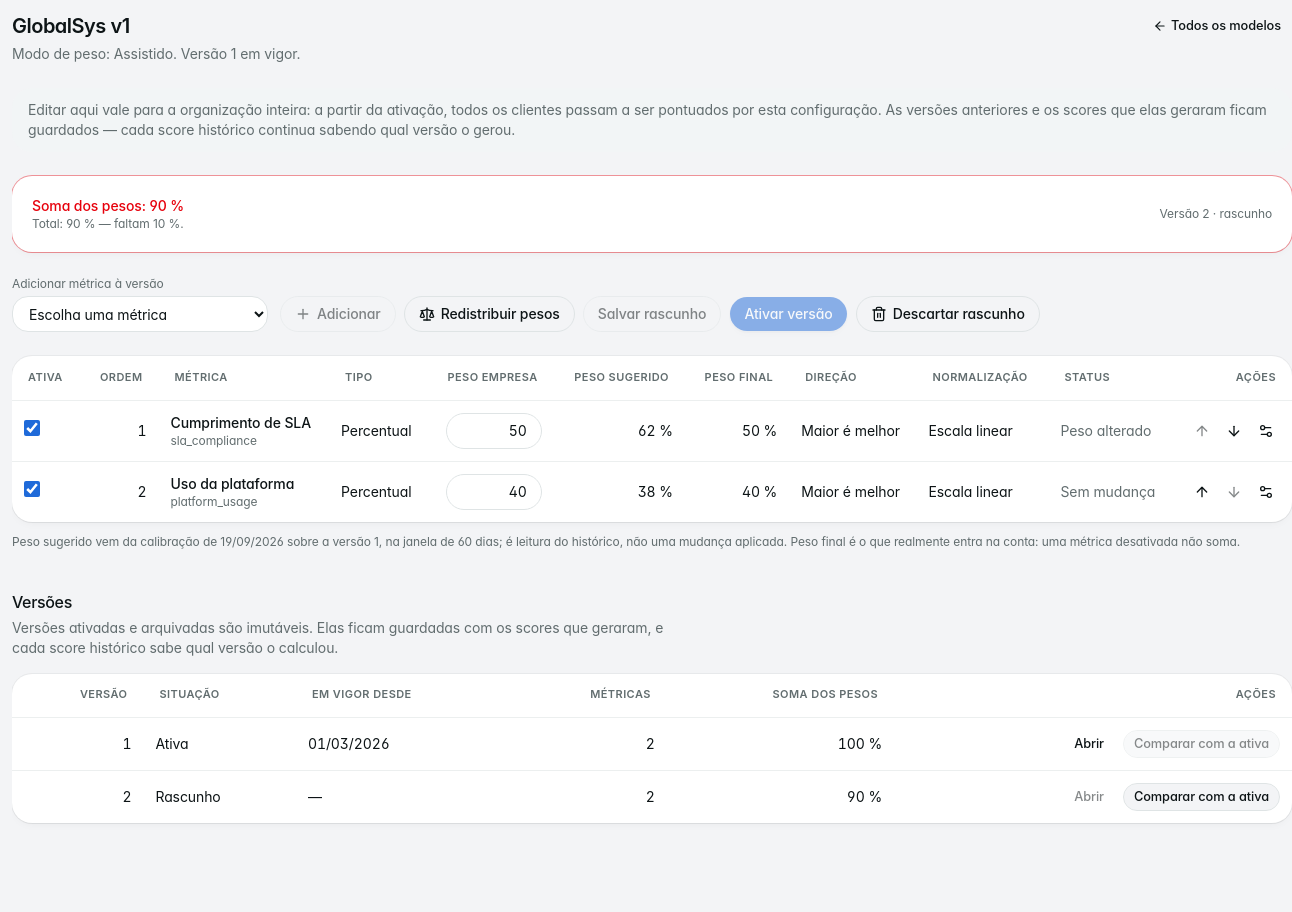
Test case: MetricModelDetailPage (/metric-models/:id) — pesos › mostra a soma o tempo todo e só libera "Ativar versão" com 100 % salvos
This screenshot has width=1292, height=912.
Expected: the text "Soma dos pesos: 90 %" is shown, [32,196,184,216]
Expected: the text "Total: 90 % — faltam 10 %." is shown, [32,216,184,232]
Clear the field named "Peso de Uso da plataforma em porcentagem" at (494,492), box [446,474,542,510]
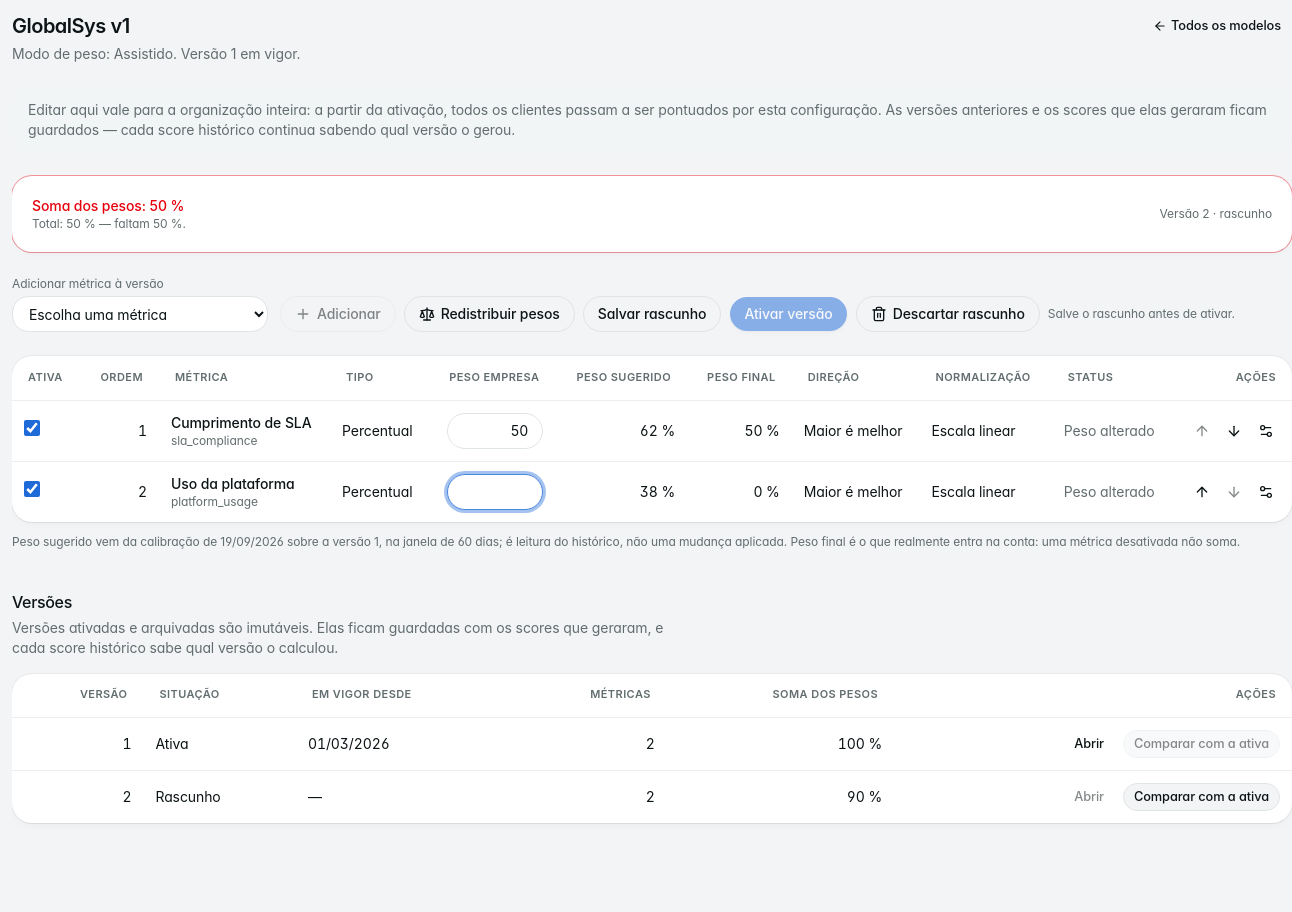
Type "50" into the field named "Peso de Uso da plataforma em porcentagem" at (495,492), box [447,474,543,510]
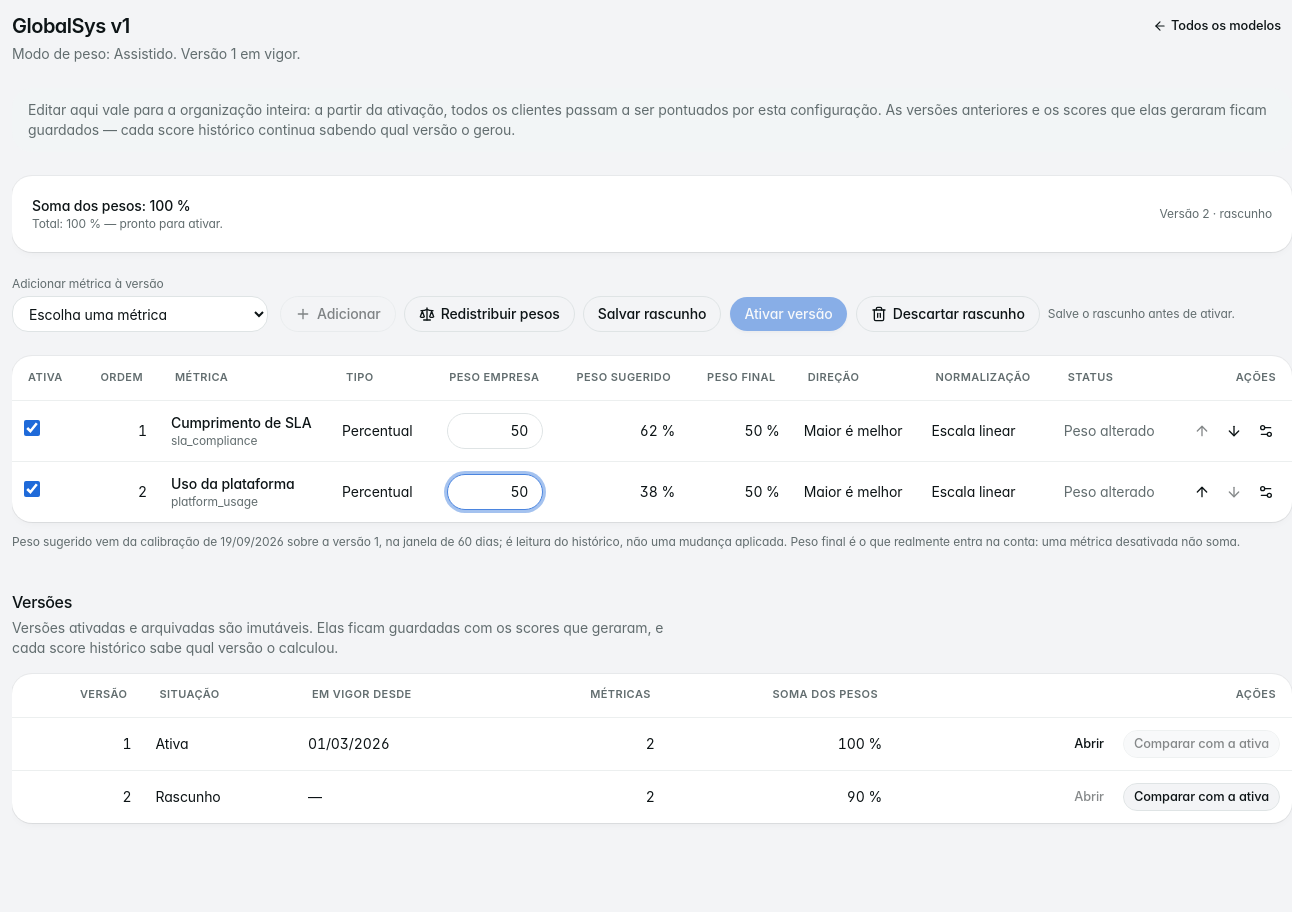
Expected: the button "Ativar versão" is disabled, [729,296,848,332]
Expected: the text "Salve o rascunho antes de ativar." is shown, [1048,306,1235,322]
Expected: the text "Soma dos pesos: 100 %" is shown, [32,197,191,214]
Click the button "Salvar rascunho" at (652,314), box [583,296,721,332]
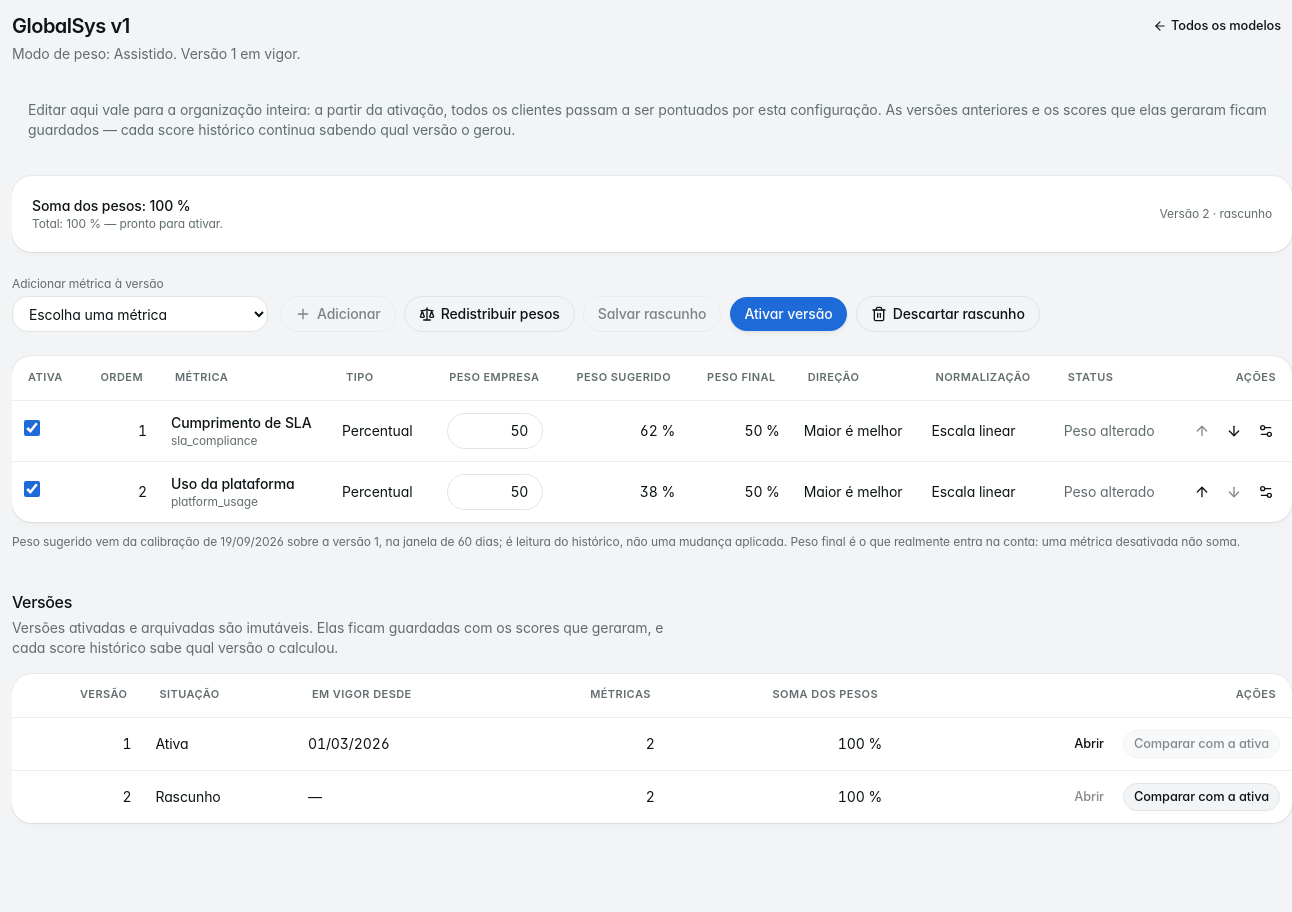
Expected: the button "Ativar versão" is enabled, [729,296,848,332]
